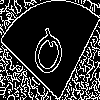Q: (24, 25, 69, 89)
